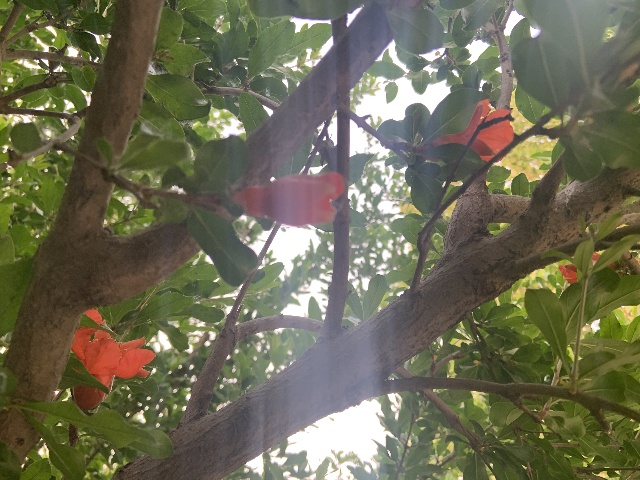flower: (70, 307, 156, 408), (232, 169, 344, 227), (431, 97, 513, 161)
